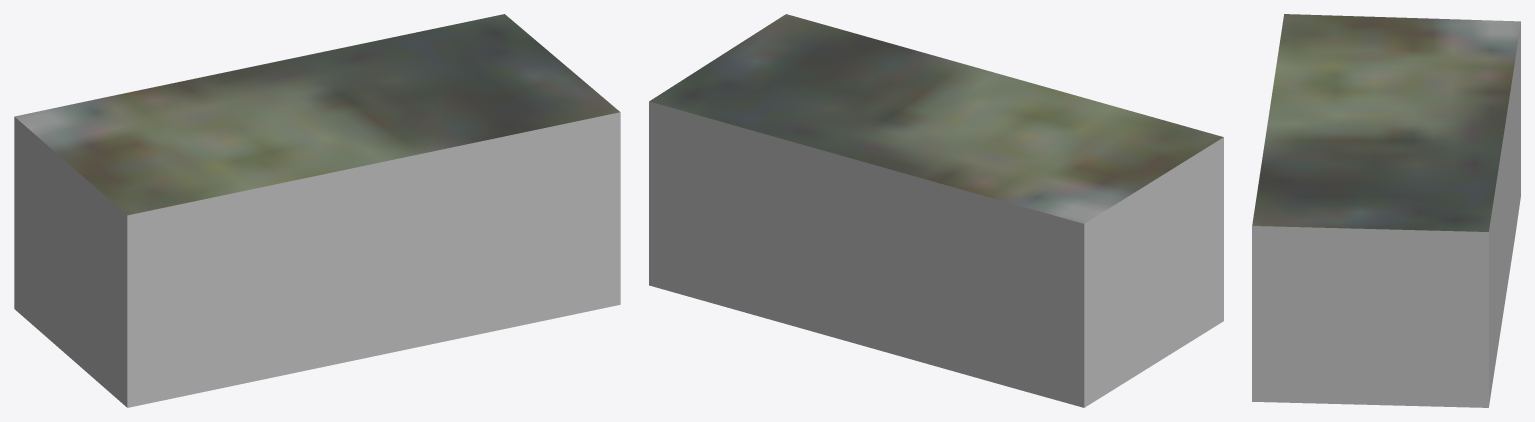
File: DEBW_0010007Tx7C.gltf
3 views of the same model, side by side, from view 1: azimuth 30°, elevation 25°; view 2: azimuth 150°, elevation 25°; view 3: azimuth 270°, elevation 25° (orthographic). The views are drawn at different scales.
Parts seen in each view (by area): view 1: Z_UP; view 2: Z_UP; view 3: Z_UP.
Boxes of the visible parts, bbox=[...] form: Z_UP: bbox=[14, 14, 620, 407]; Z_UP: bbox=[649, 14, 1223, 407]; Z_UP: bbox=[1252, 14, 1520, 407].
Size of the model in its own units: 5.32 by 2 by 2.77.
2 materials, 1 textured.
